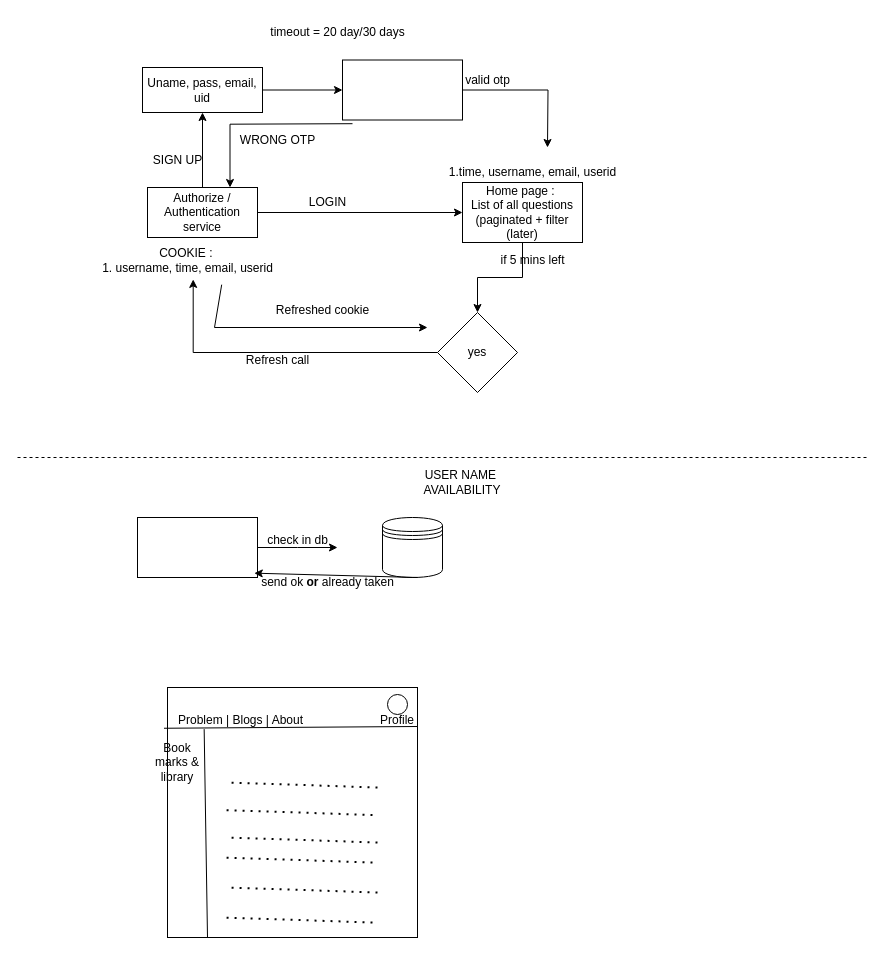
The diagram is 886 pixels wide and 956 high, and some of its shapes have lost their labels. The box of each missing label's shape, as (x1, y1, x2, y2) in pixels:
DURING SIGN UP : ENTER uname: (136, 516, 258, 578)
Gen OTP: (342, 59, 462, 120)
